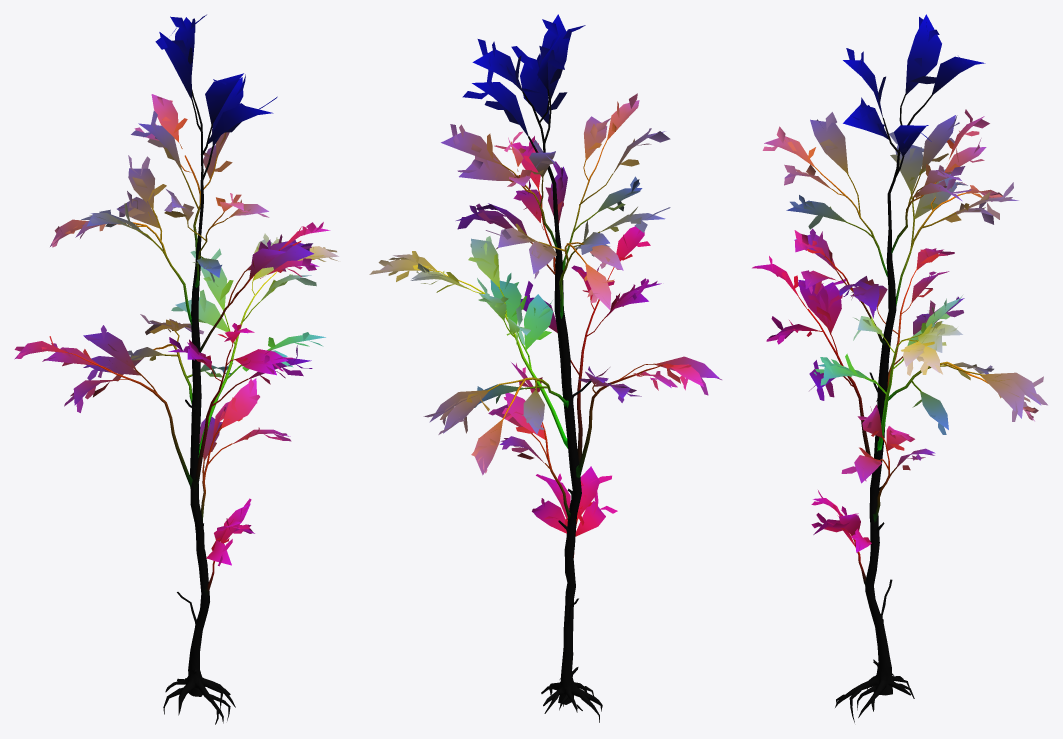
Rendered from SM_EuropeanBeech_Dead_M_01.fbx.
3 views of the same model, side by side, from view 1: azimuth 30°, elevation 25°; view 2: azimuth 150°, elevation 25°; view 3: azimuth 270°, elevation 25° (orthographic). The views are drawn at different scales.
Visible parts, largest first — view 1: SM_EuropeanBeech_Dead_M_01_LOD0; view 2: SM_EuropeanBeech_Dead_M_01_LOD0; view 3: SM_EuropeanBeech_Dead_M_01_LOD0.
Boxes of the visible parts, x1,y1,x2,y2 form: SM_EuropeanBeech_Dead_M_01_LOD0: (14,14,338,724); SM_EuropeanBeech_Dead_M_01_LOD0: (369,14,721,722); SM_EuropeanBeech_Dead_M_01_LOD0: (752,14,1047,722).
Size of what is drawn, in the model's own units: 339 by 268 by 691.
